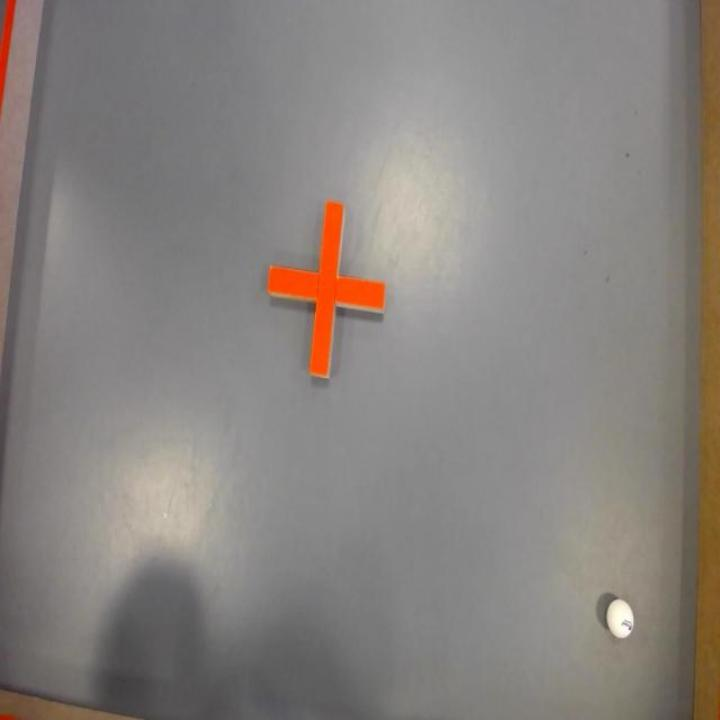white: (600, 592, 640, 641)
